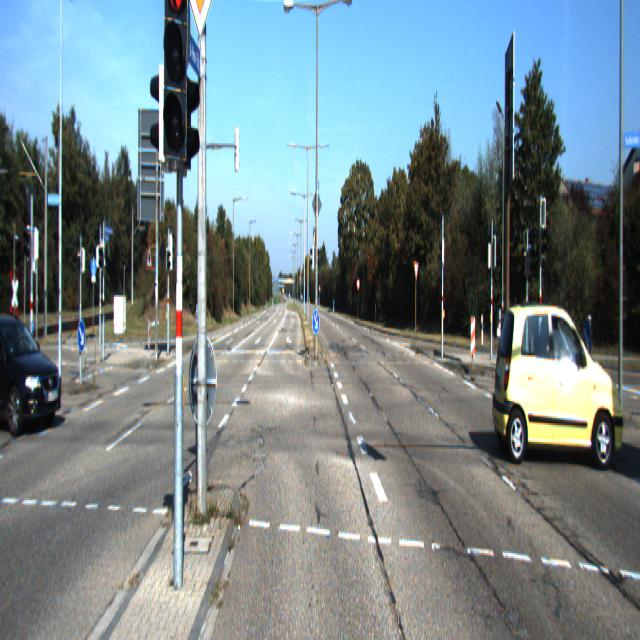Car: (491, 299, 628, 472), (0, 309, 65, 433)
